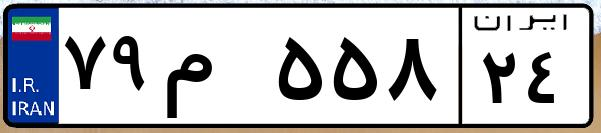2: (475, 38, 525, 113)
4: (525, 38, 570, 115)
5: (270, 28, 330, 110), (330, 28, 385, 110)
7: (57, 26, 110, 100)
8: (385, 28, 445, 110)
9: (110, 28, 158, 98)
م: (158, 20, 270, 120)
